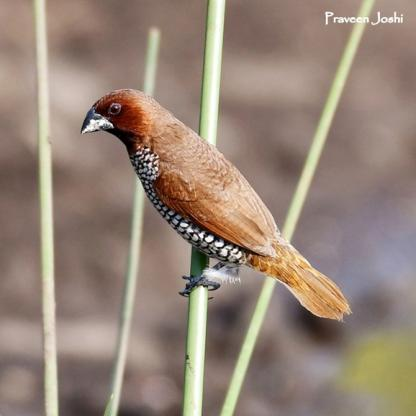Burung: (80, 88, 350, 319)
